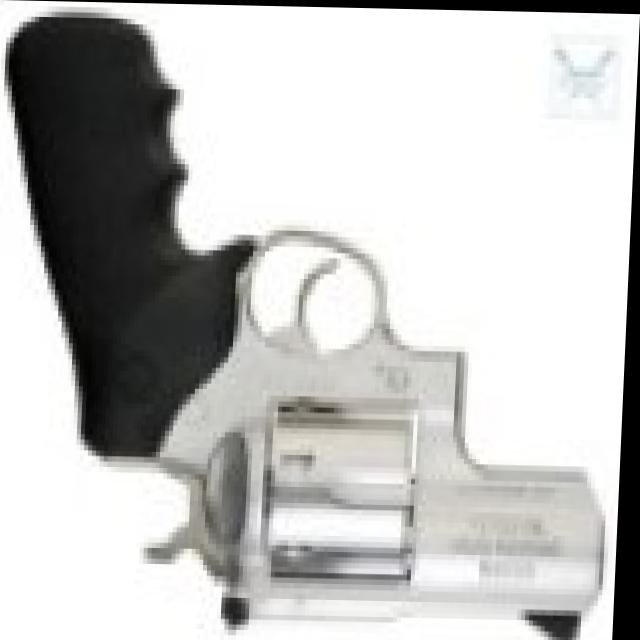handgun: (0, 22, 623, 640)
